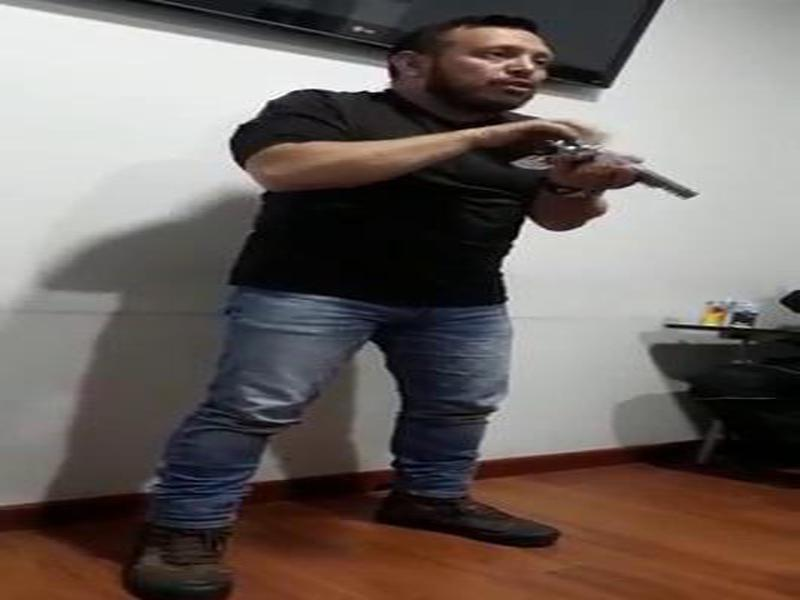Revolver: (512, 106, 710, 247)
